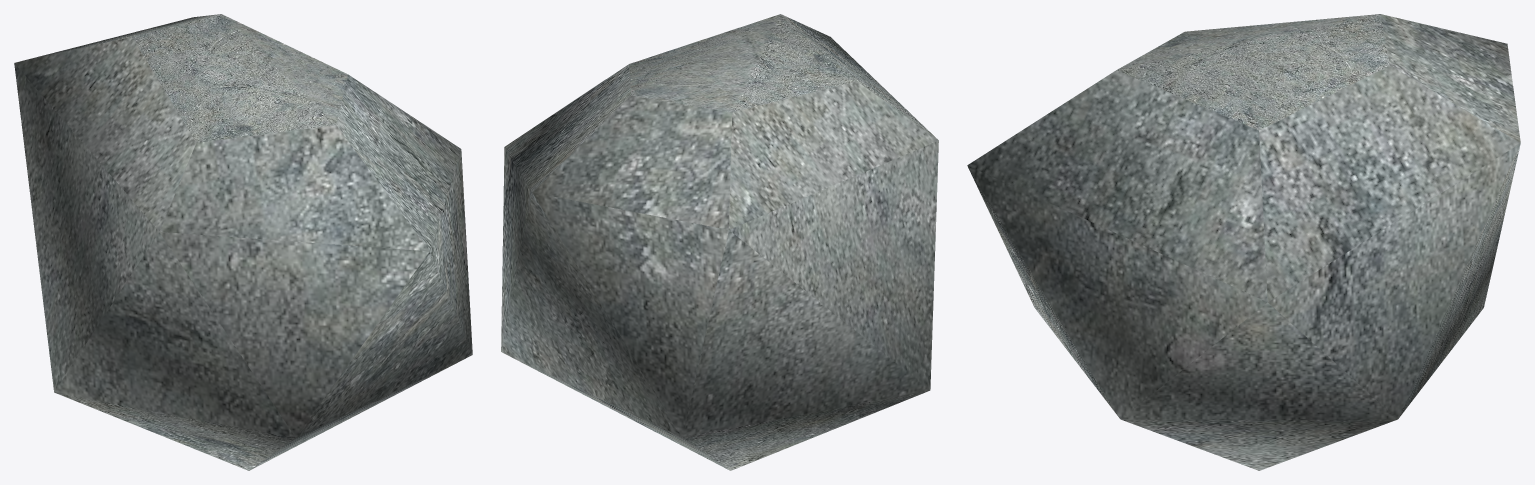
File: rock.fbx
3 renders of one model, left to right at view 1: azimuth 30°, elevation 25°; view 2: azimuth 150°, elevation 25°; view 3: azimuth 270°, elevation 25°, orthographic. The views are drawn at different scales.
Visible parts, largest first — view 1: Icosphere; view 2: Icosphere; view 3: Icosphere.
Boxes of the visible parts, x1,y1,x2,y2 form: Icosphere: (14, 14, 472, 470); Icosphere: (501, 14, 938, 470); Icosphere: (967, 14, 1520, 470).
Bounding box in the file's own units: 189 × 178 × 210.
